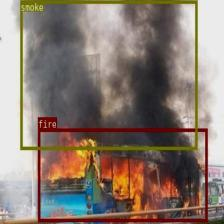fire: (38, 128, 207, 221)
smoke: (20, 0, 197, 149)
